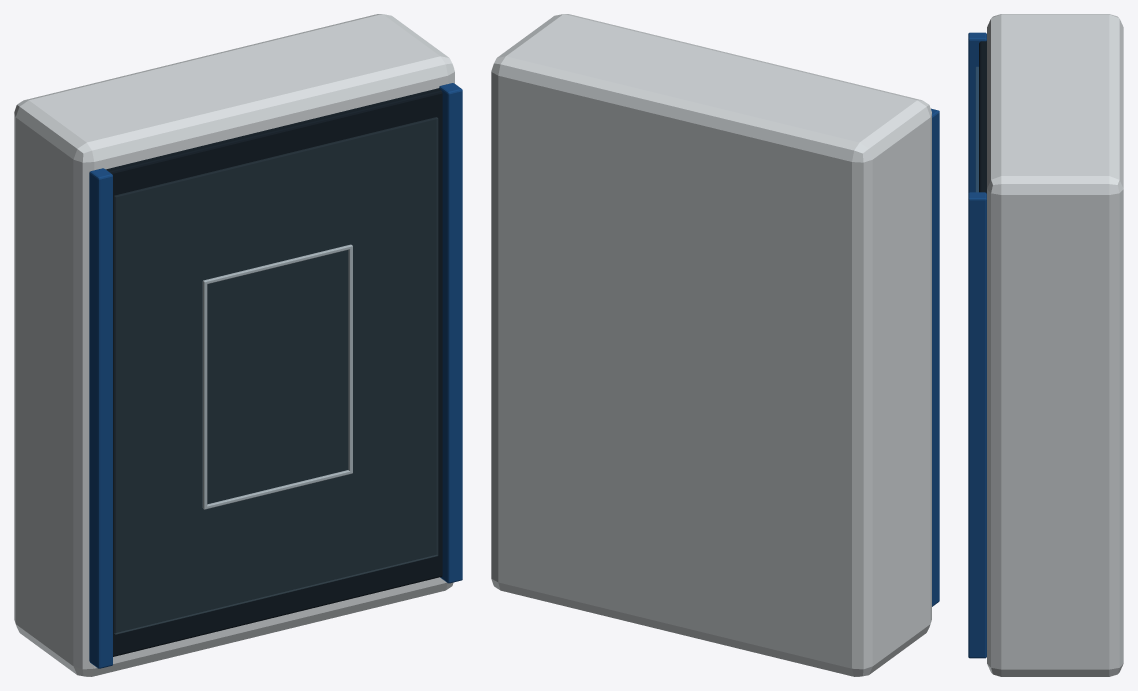
The model's file is micronic_tube_code_reader.glb.
3 renders of one model, left to right at view 1: azimuth 30°, elevation 25°; view 2: azimuth 150°, elevation 25°; view 3: azimuth 270°, elevation 25°, orthographic. The views are drawn at different scales.
Parts seen in each view (by area): view 1: Scanner optical bed, Scan glass, Flatbed scanner housing, Raised edge rail, Rack locating rail; view 2: Flatbed scanner housing, Raised edge rail; view 3: Flatbed scanner housing, Raised edge rail, Scanner optical bed, Scan glass.
Boxes of the visible parts, x1,y1,x2,y2 form: Scanner optical bed: [106, 88, 442, 656]; Scan glass: [114, 117, 437, 634]; Flatbed scanner housing: [14, 14, 454, 676]; Raised edge rail: [89, 83, 462, 668]; Rack locating rail: [202, 244, 352, 509]; Flatbed scanner housing: [491, 14, 931, 676]; Raised edge rail: [931, 108, 939, 606]; Flatbed scanner housing: [987, 14, 1123, 676]; Raised edge rail: [968, 32, 986, 658]; Scanner optical bed: [979, 41, 986, 193]; Scan glass: [976, 67, 978, 191].
Bounding box in the file's own units: 0.23 × 0.3091 × 0.087.
